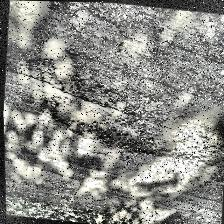pothole: (49, 100, 179, 158)
